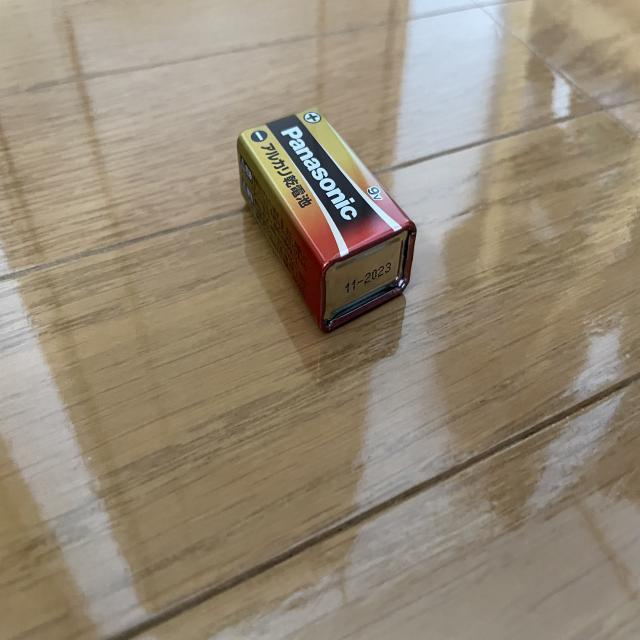9V: (235, 105, 418, 333)
